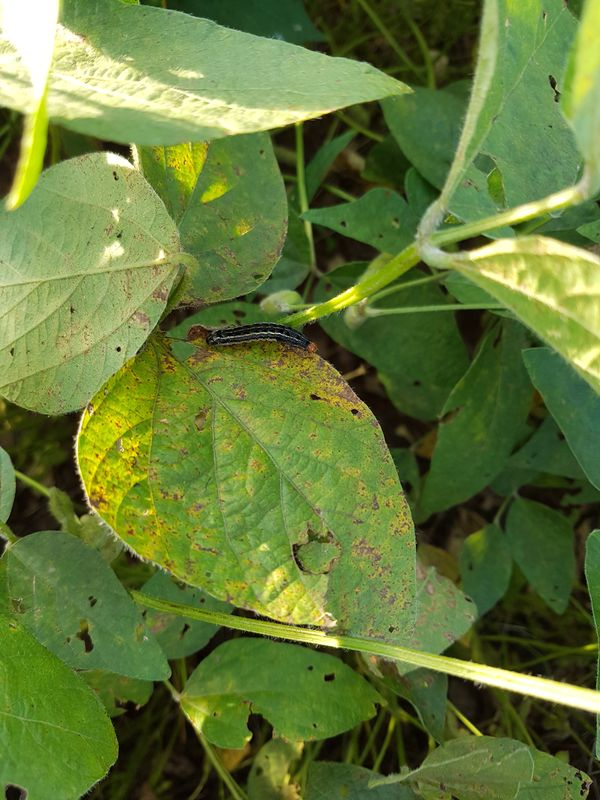Spodoptera_albula: (189, 300, 330, 380)
